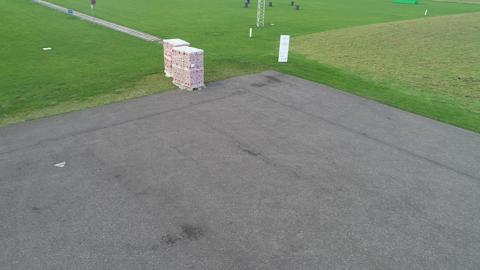RockwoolPallet: (163, 35, 190, 76)
